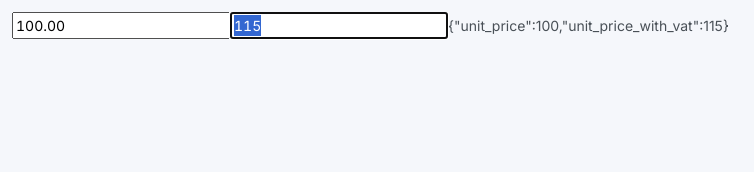
Test: PriceInput › typing a with-VAT price fills the without-VAT price immediately
Replace the text in the field with test id "inc" with "230". click: (339, 26)
box: [230,12,448,39]
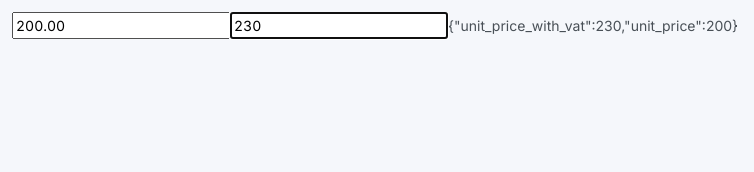
Now the field with test id "ex" holds "200.00", box [12,12,230,39]
